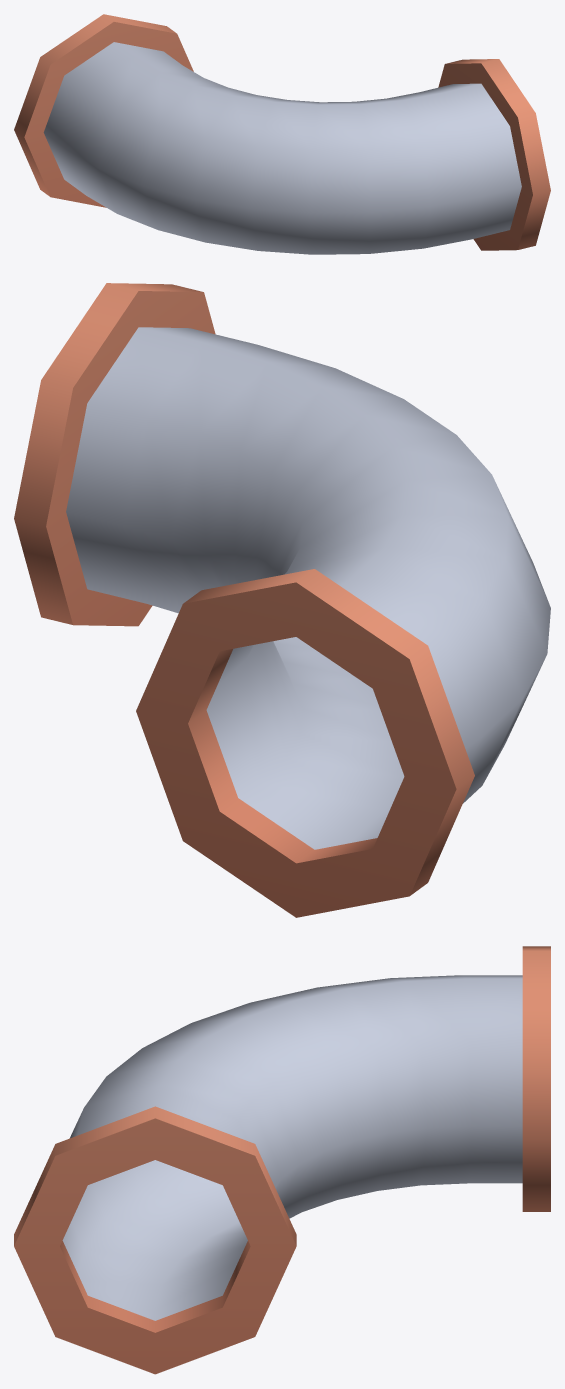
Rendered from pipe-glass-large-bend.obj.
The picture shows the model from 3 angles, top to bottom: view 1: azimuth 30°, elevation 25°; view 2: azimuth 150°, elevation 25°; view 3: azimuth 270°, elevation 25°; orthographic projection. The views are drawn at different scales.
Parts seen in each view (by area): view 1: pipe-glass-large-bend; view 2: pipe-glass-large-bend; view 3: pipe-glass-large-bend.
Part boxes in pixels (bbox=[...]): pipe-glass-large-bend: bbox=[14, 14, 550, 254]; pipe-glass-large-bend: bbox=[14, 283, 550, 917]; pipe-glass-large-bend: bbox=[14, 946, 550, 1374].
Size of the model in its own units: 1.9 by 1 by 1.9.
